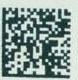datamatrix: (3, 9, 72, 80)
